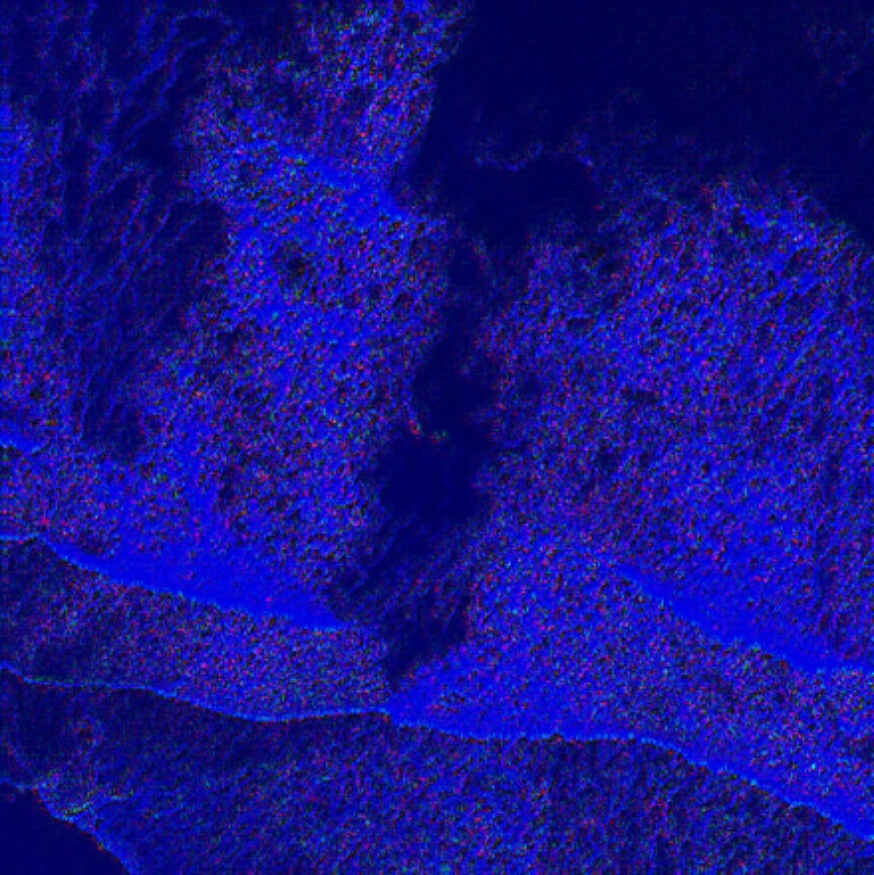rip_current: (252, 142, 587, 769)
